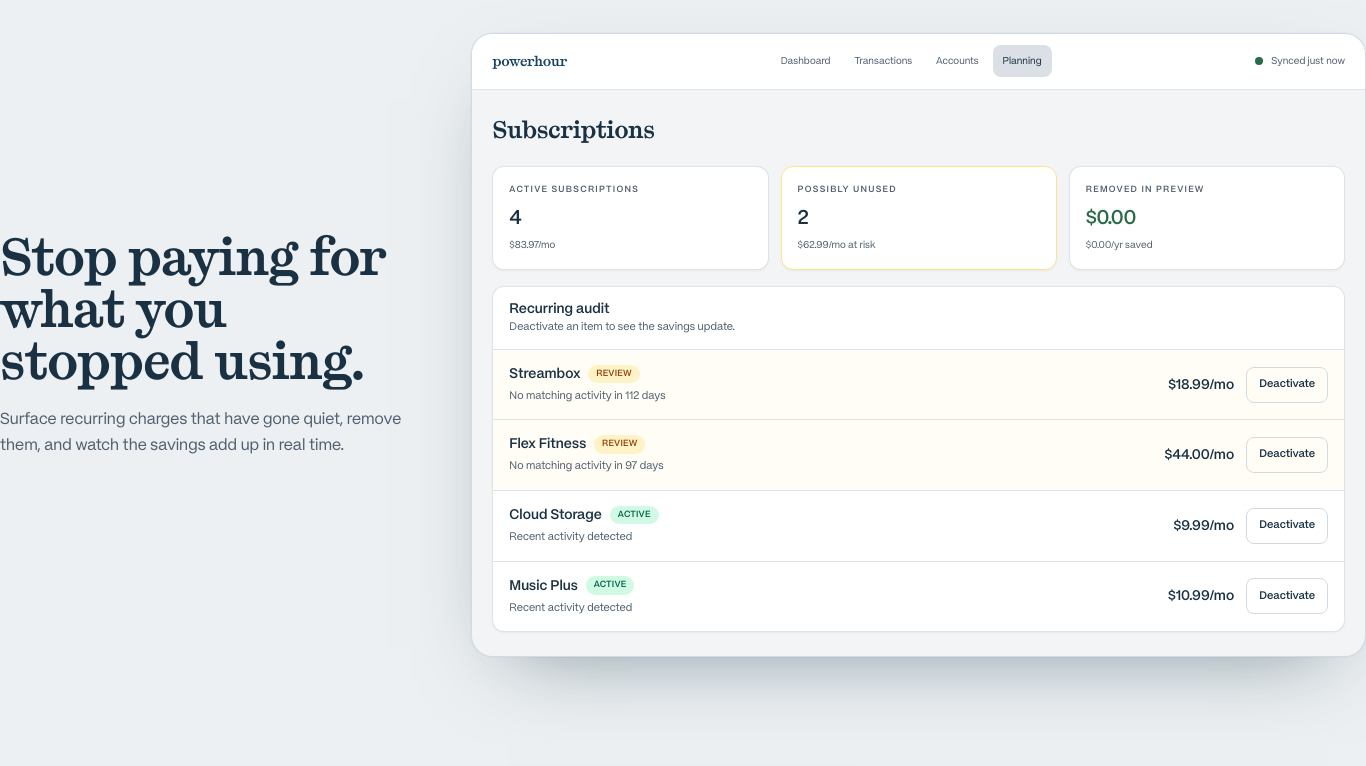
it: ProductWorkspace › updates and restores subscription-audit savings
(page scrolled)
Click the button with aria-label "Deactivate Streambox": point(1287, 385) [1246,367,1328,403]
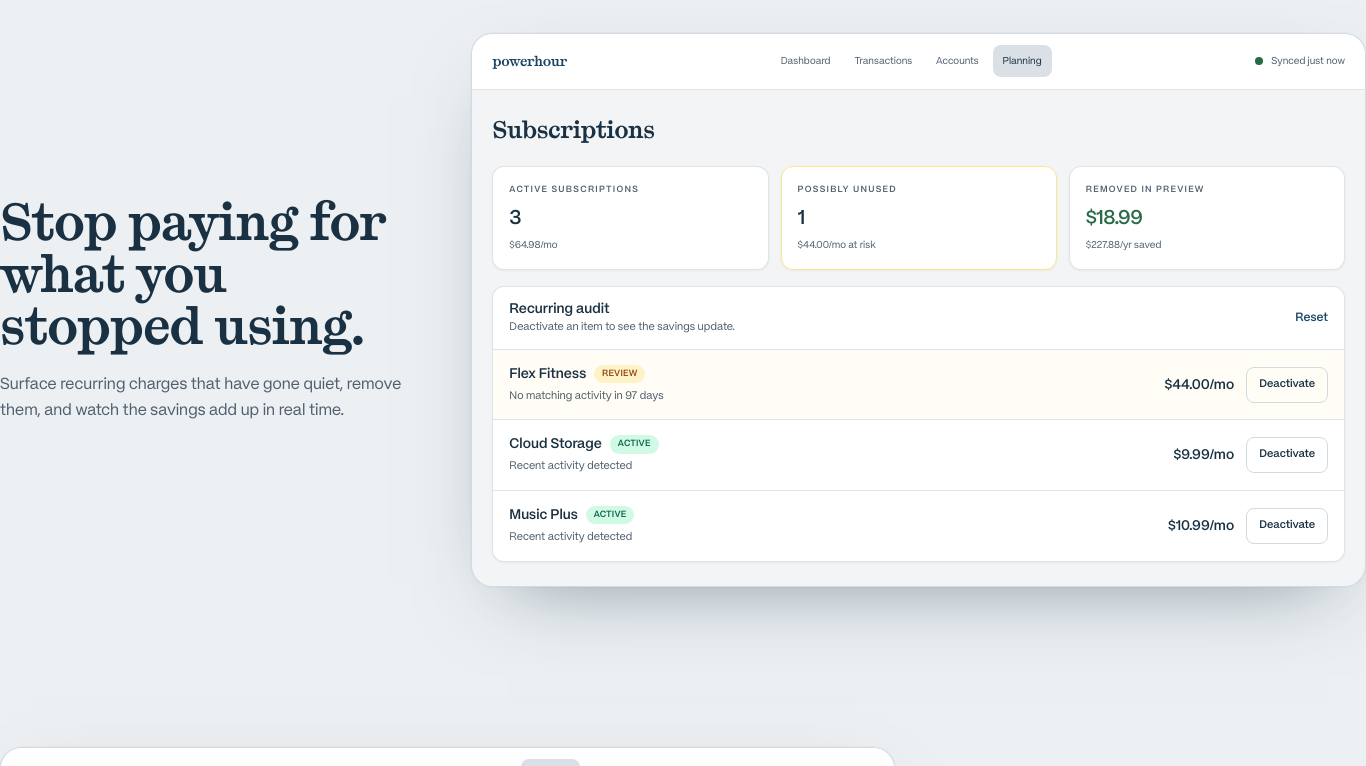
Check: the text "Streambox" is gone
Check: the text "$18.99" is shown, box [1086,209,1142,229]
Check: the button "Reset" is shown
Click the button "Reset": point(1312, 318) [1295,310,1328,326]
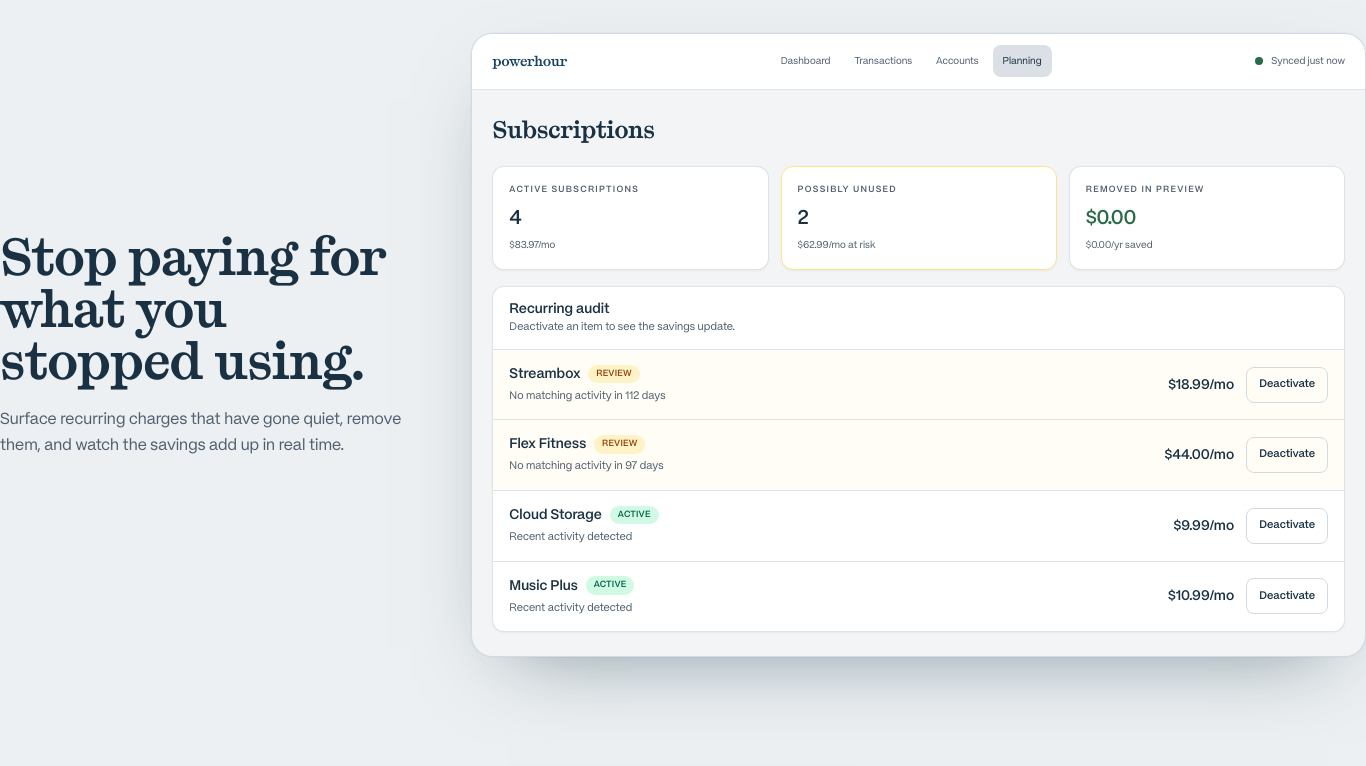
Check: the text "Streambox" is shown, box [509,364,580,384]
